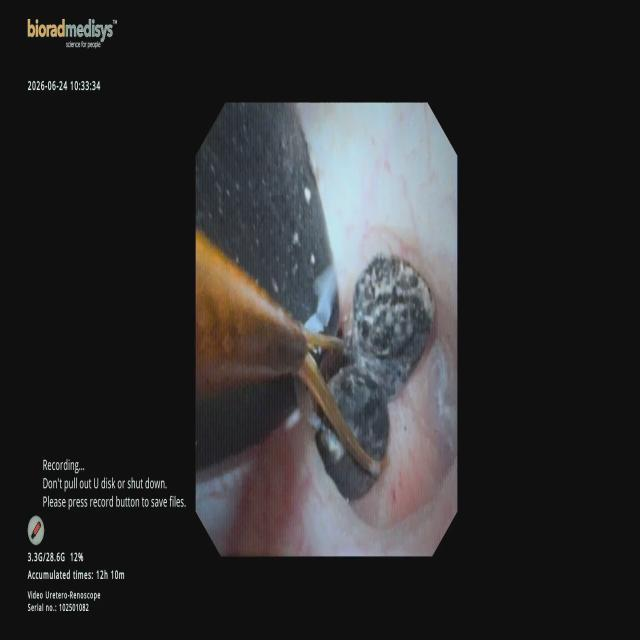stone-new: (196, 103, 333, 323), (345, 255, 435, 399), (196, 377, 297, 472), (328, 364, 390, 460), (316, 410, 377, 500), (320, 291, 339, 335)
